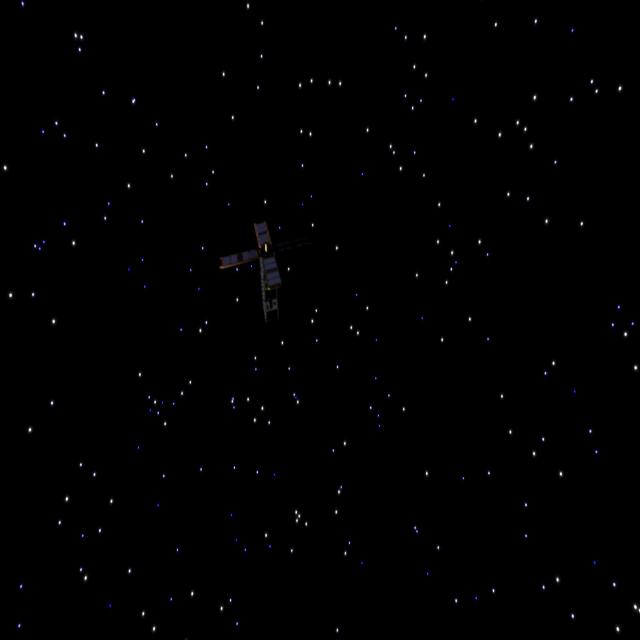medium_debris: (215, 215, 298, 326)
